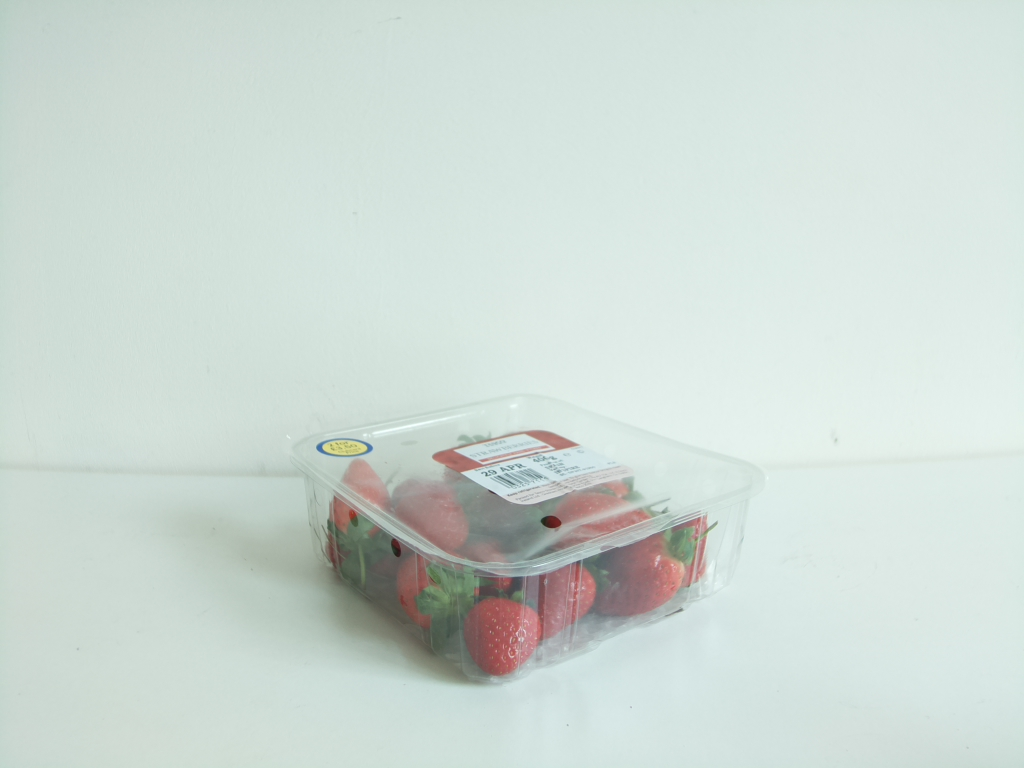soft-fruit: (291, 396, 766, 691)
